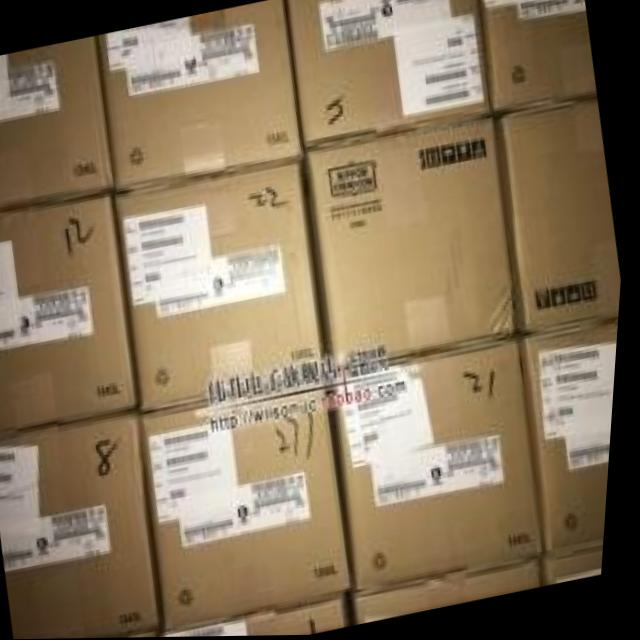box: (335, 339, 552, 600), (304, 119, 524, 373), (143, 378, 359, 633), (118, 162, 331, 413), (95, 0, 307, 194), (0, 407, 166, 639), (0, 191, 143, 434), (493, 101, 625, 340), (288, 0, 493, 148), (524, 321, 623, 564), (0, 36, 116, 210), (480, 0, 599, 120), (363, 560, 550, 626), (171, 597, 353, 638), (548, 551, 611, 589)
